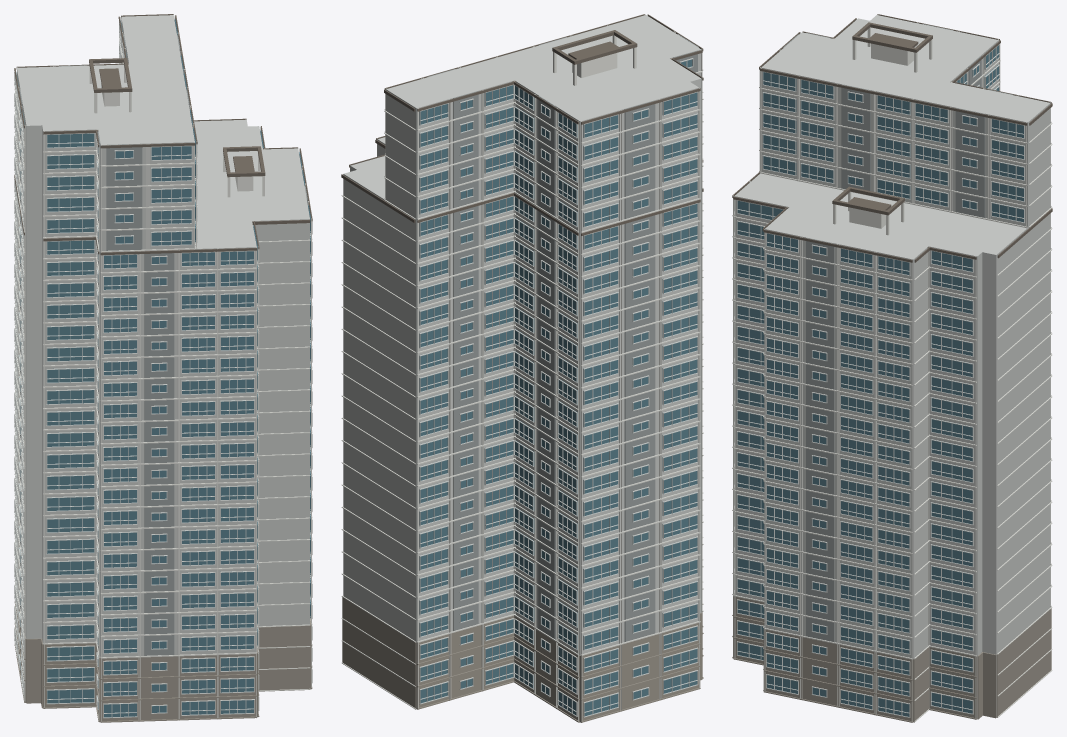
File: bespoke-banpo-xi-127.glb
The picture shows the model from 3 angles, left to right: view 1: azimuth 30°, elevation 25°; view 2: azimuth 150°, elevation 25°; view 3: azimuth 270°, elevation 25°; orthographic projection. The views are drawn at different scales.
Visible parts, largest first — view 1: editable_BX127_pale_silver_limestone, editable_BX127_blue_grey_broad_glazing, editable_BX127_white_window_frames, editable_BX127_ivory_course_bands, editable_BX127_grey_service_core, editable_BX127_warm_ground_stone, editable_BX127_dark_coping; view 2: editable_BX127_pale_silver_limestone, editable_BX127_blue_grey_broad_glazing, editable_BX127_white_window_frames, editable_BX127_ivory_course_bands, editable_BX127_grey_service_core, editable_BX127_warm_ground_stone, editable_BX127_dark_coping; view 3: editable_BX127_pale_silver_limestone, editable_BX127_blue_grey_broad_glazing, editable_BX127_white_window_frames, editable_BX127_ivory_course_bands, editable_BX127_grey_service_core, editable_BX127_warm_ground_stone, editable_BX127_dark_coping.
Part boxes in pixels (x1=…): editable_BX127_pale_silver_limestone: x1=17, y1=15, x2=309, y2=657; editable_BX127_blue_grey_broad_glazing: x1=16, y1=19, x2=310, y2=717; editable_BX127_white_window_frames: x1=14, y1=21, x2=312, y2=718; editable_BX127_ivory_course_bands: x1=14, y1=15, x2=312, y2=722; editable_BX127_grey_service_core: x1=19, y1=34, x2=307, y2=655; editable_BX127_warm_ground_stone: x1=14, y1=601, x2=312, y2=722; editable_BX127_dark_coping: x1=14, y1=14, x2=312, y2=255; editable_BX127_pale_silver_limestone: x1=343, y1=15, x2=701, y2=721; editable_BX127_blue_grey_broad_glazing: x1=419, y1=59, x2=697, y2=716; editable_BX127_white_window_frames: x1=419, y1=58, x2=698, y2=717; editable_BX127_ivory_course_bands: x1=341, y1=14, x2=703, y2=721; editable_BX127_grey_service_core: x1=427, y1=34, x2=698, y2=641; editable_BX127_warm_ground_stone: x1=342, y1=597, x2=703, y2=722; editable_BX127_dark_coping: x1=341, y1=14, x2=703, y2=235; editable_BX127_pale_silver_limestone: x1=734, y1=15, x2=1050, y2=718; editable_BX127_blue_grey_broad_glazing: x1=737, y1=45, x2=1023, y2=716; editable_BX127_white_window_frames: x1=734, y1=44, x2=1024, y2=717; editable_BX127_ivory_course_bands: x1=732, y1=14, x2=1052, y2=721; editable_BX127_grey_service_core: x1=783, y1=24, x2=1013, y2=642; editable_BX127_warm_ground_stone: x1=732, y1=596, x2=1051, y2=722; editable_BX127_dark_coping: x1=732, y1=14, x2=1052, y2=262.
Size of the model in its own units: 39.22 by 76.5 by 37.6.
